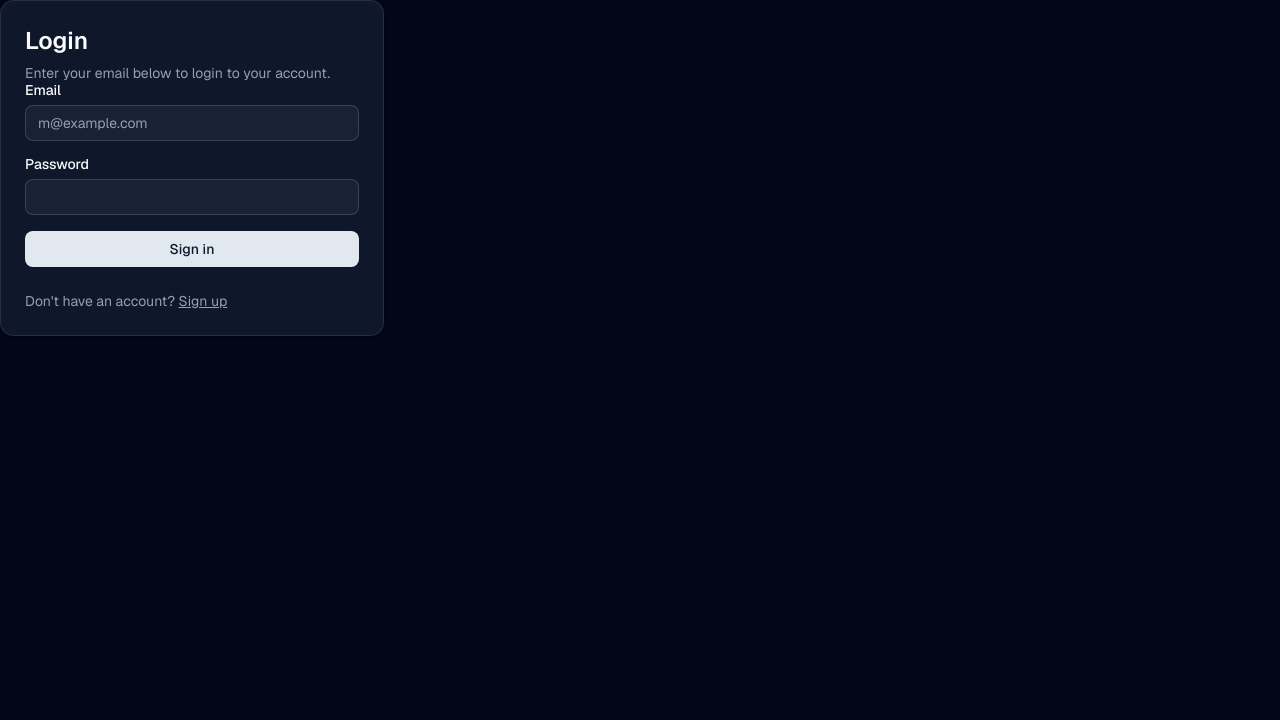
Test: AuthForm (Interactive) › should show a confirmation message after successful registration
Click the button "Sign up": [203, 301] box [178,291,227,311]
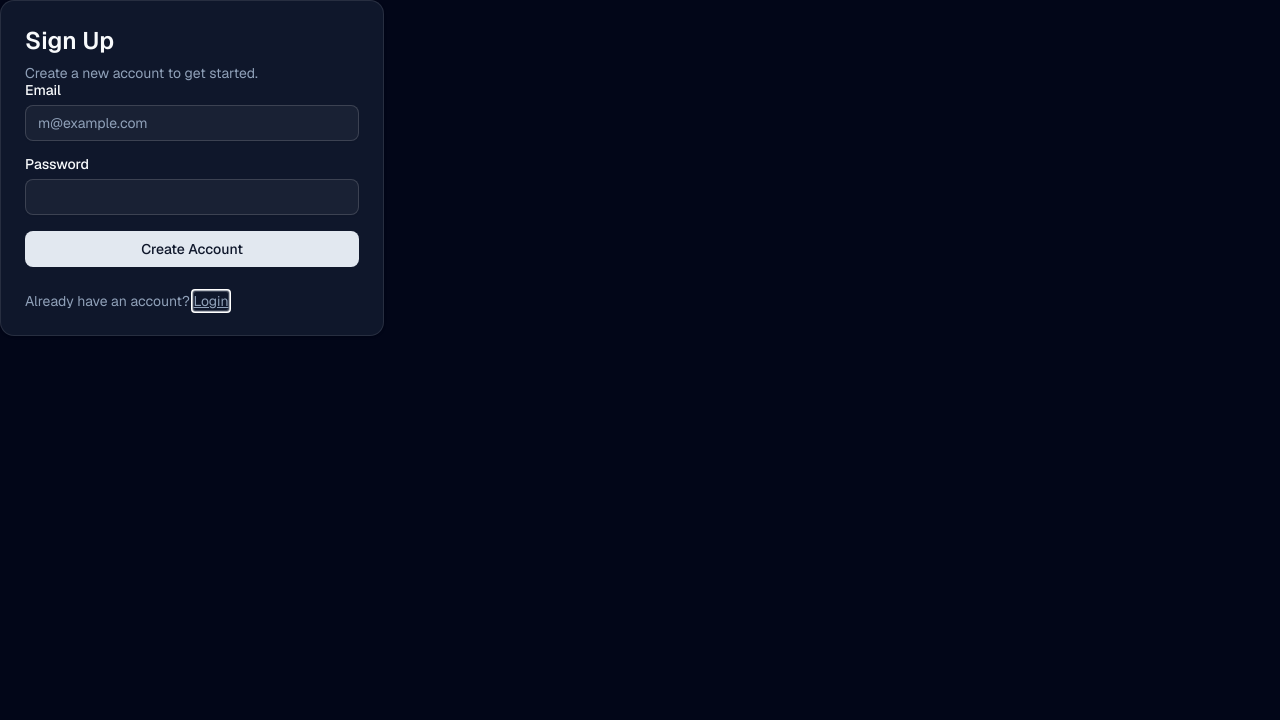
In the field labelled "Email": [192, 123] box [25,105,359,141], type "test@example.com"
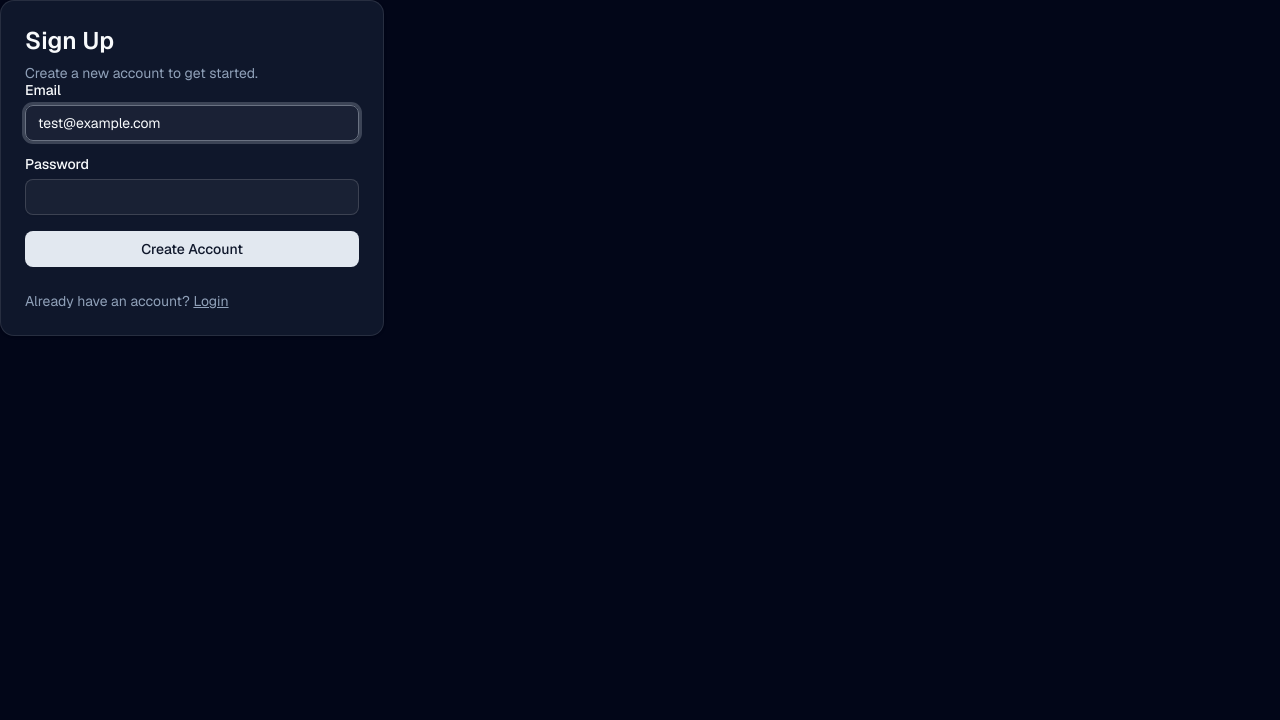
In the password field labelled "Password": [192, 197] box [25,179,359,215], type "a-secure-password"
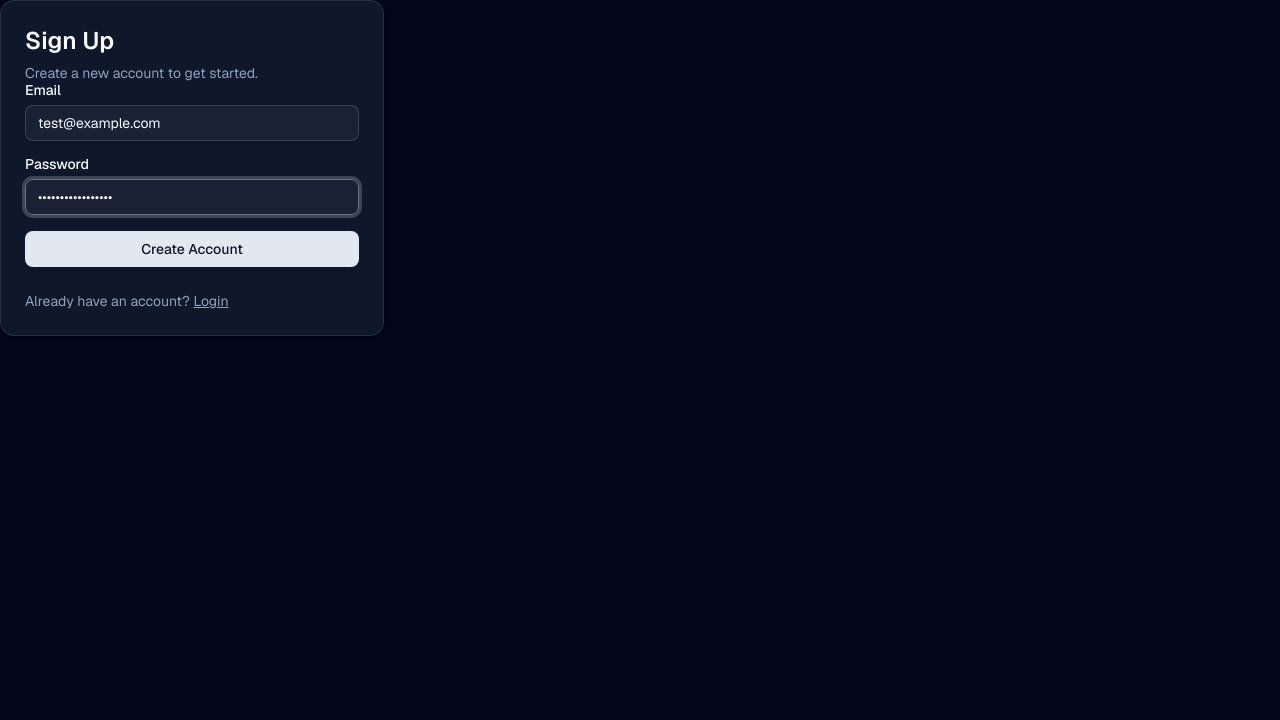
Click the button "Create Account": [192, 249] box [25,231,359,267]
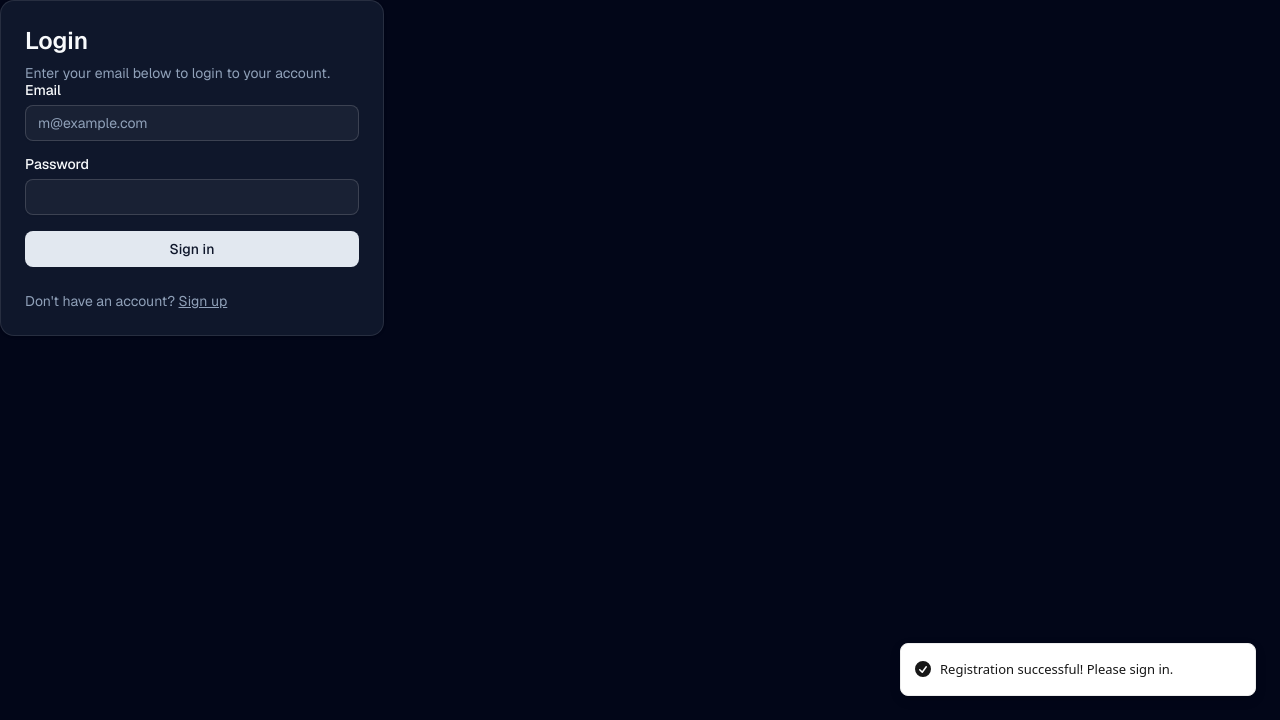
Expected: the text "Registration successful! Please sign in." is shown, [940,660,1173,679]
